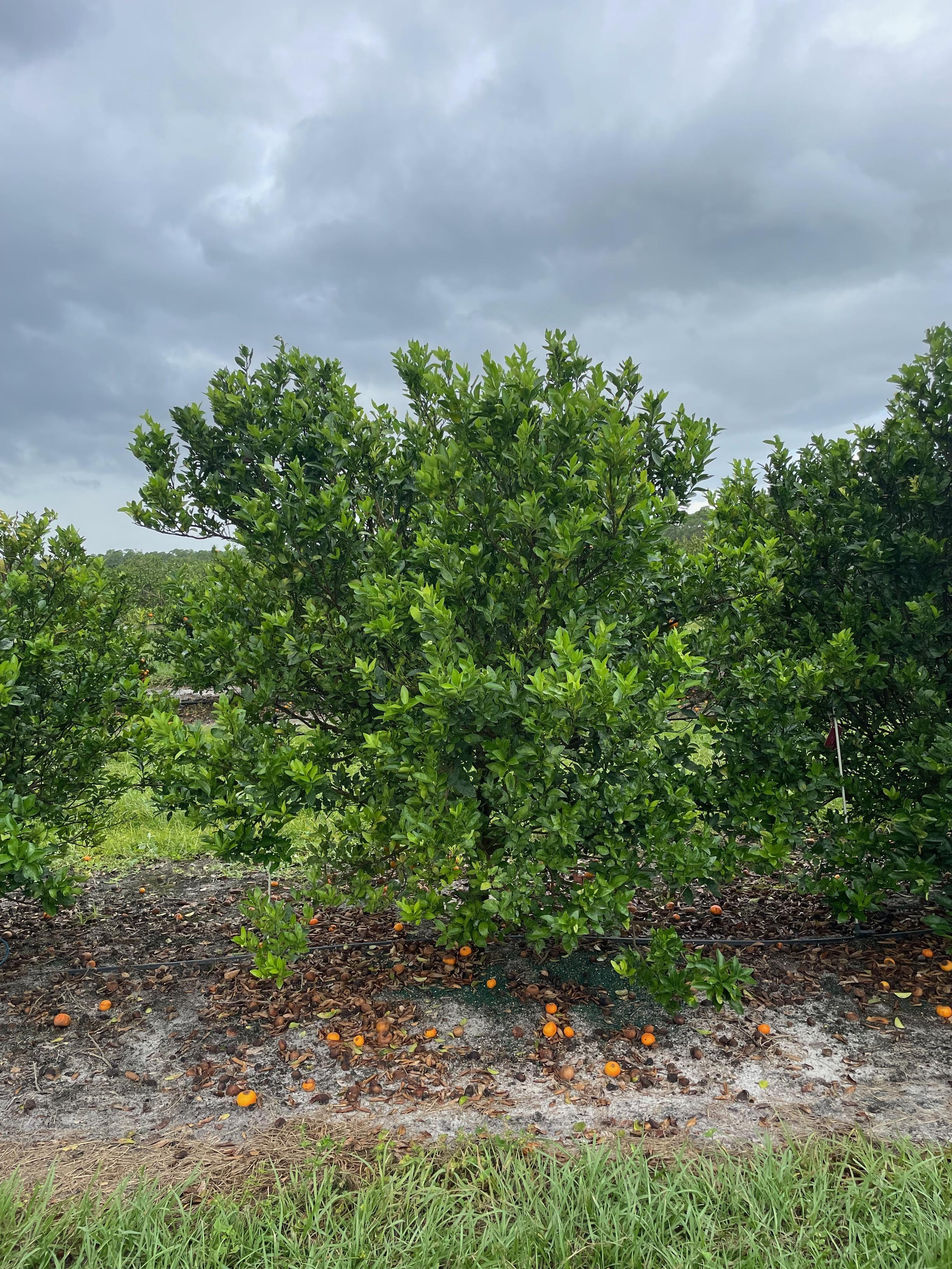fruit_on_ground: (388, 853, 405, 871), (665, 615, 680, 630)
fruit_on_tree: (236, 1088, 257, 1108), (51, 1010, 73, 1029), (603, 1059, 621, 1077), (558, 1063, 576, 1080), (934, 1002, 951, 1019), (374, 1017, 392, 1033), (523, 982, 540, 998), (621, 1024, 639, 1039), (541, 1021, 557, 1037), (640, 1032, 657, 1047), (376, 1031, 394, 1045), (325, 1029, 341, 1044), (510, 1024, 526, 1039), (301, 1077, 317, 1092), (756, 1021, 772, 1036), (690, 1045, 705, 1060), (97, 997, 112, 1012), (225, 1082, 240, 1096), (882, 954, 897, 968), (938, 958, 952, 973), (352, 1033, 366, 1048), (543, 1001, 558, 1015), (441, 953, 457, 966), (392, 961, 407, 974), (920, 947, 935, 960), (79, 949, 93, 962), (304, 968, 317, 982), (452, 1023, 465, 1037), (458, 944, 472, 957), (709, 903, 723, 916), (562, 1024, 575, 1038), (910, 986, 925, 998), (641, 1022, 656, 1034), (877, 979, 892, 991), (392, 919, 405, 932), (485, 975, 498, 988), (424, 1026, 438, 1038), (673, 1012, 686, 1024), (269, 877, 281, 888), (583, 869, 595, 880), (745, 944, 758, 954), (307, 916, 320, 926), (663, 901, 675, 911), (684, 904, 696, 914), (137, 885, 147, 895)
